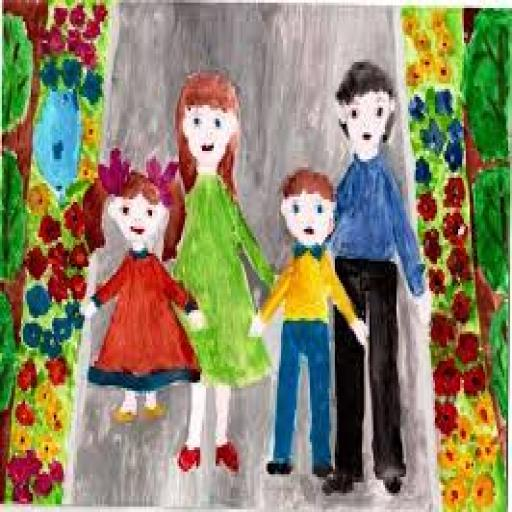person: (324, 54, 434, 498), (168, 59, 276, 480), (73, 149, 202, 427), (256, 168, 364, 479)
